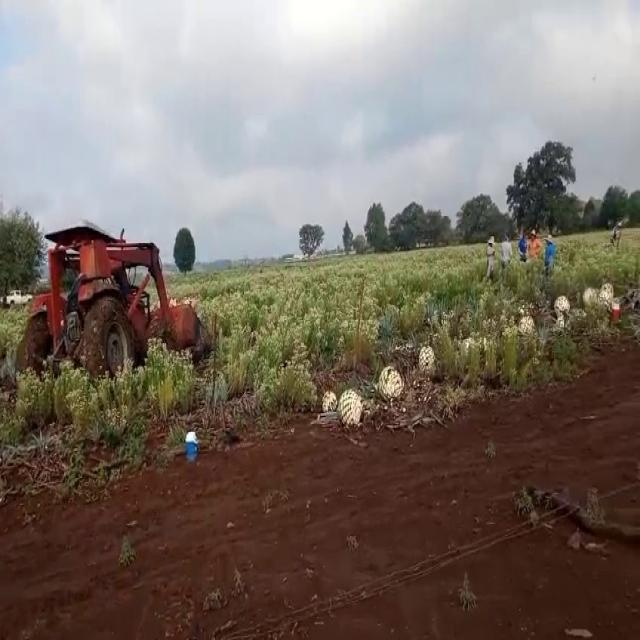agave: (375, 360, 403, 404), (338, 384, 362, 434), (416, 342, 436, 377), (551, 294, 571, 322), (518, 313, 535, 339), (581, 284, 596, 312), (319, 387, 337, 410), (598, 289, 610, 313), (601, 280, 614, 301)
